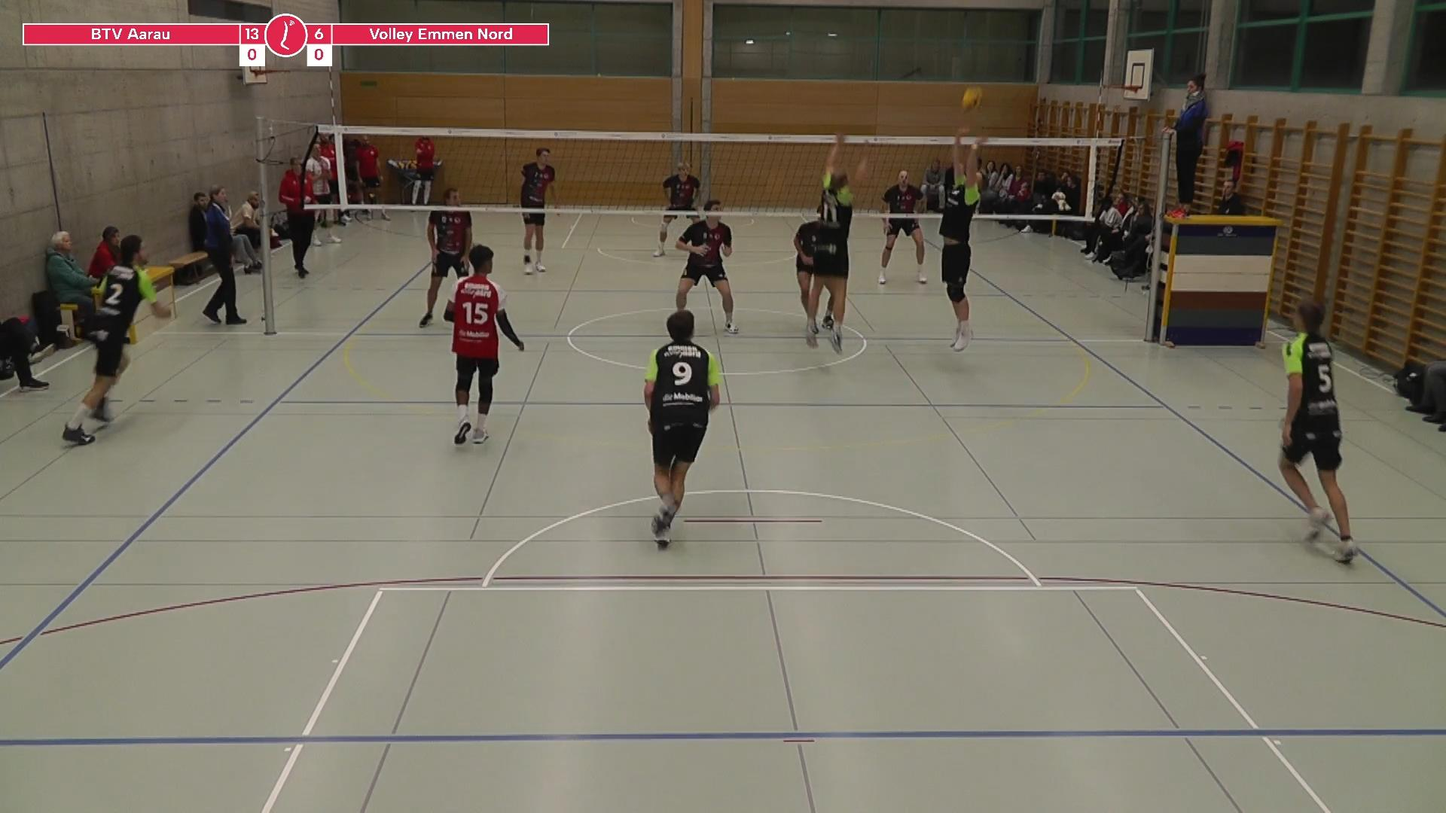alzata: (930, 124, 993, 359)
attacco: (781, 122, 875, 345)
